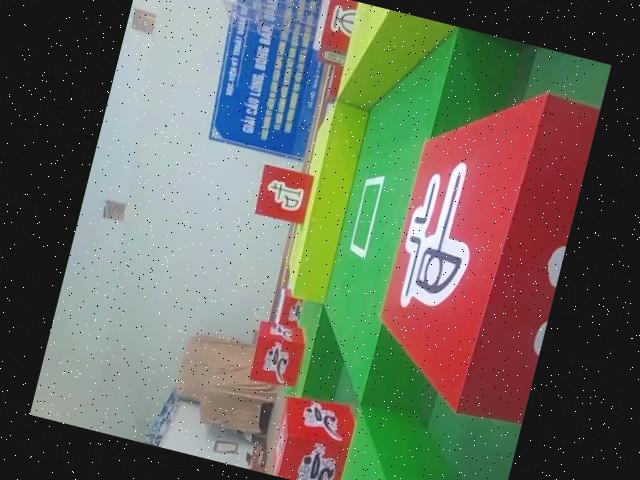R1: (266, 388, 358, 480), (243, 315, 315, 395)
R2 Real: (360, 66, 601, 428), (253, 163, 316, 225)
